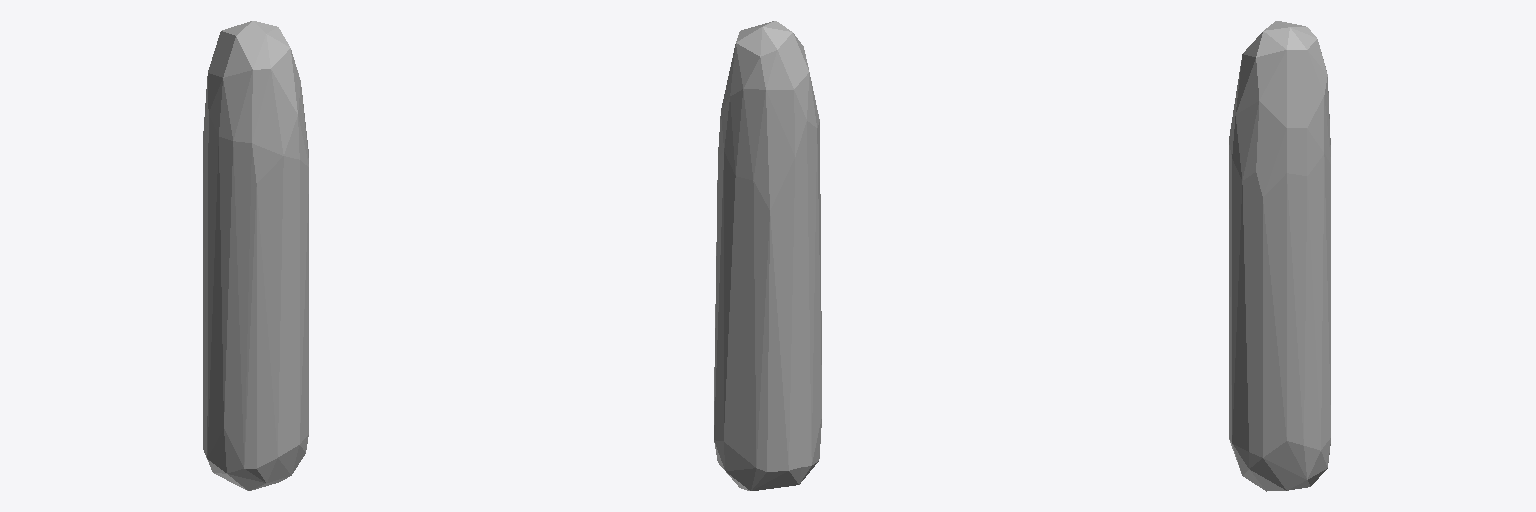
robot.urdf — root:
<robot name="root">
  <link name="link_ycb~040_large_marker_convex_piece_0">
    <inertial>
      <origin xyz="0 0 0" rpy="0 0 0"/>
      <mass value="1.35E-01"/>
      <inertia ixx="1.19E-04" ixy="1.02E-07" ixz="4.07E-07" iyy="1.19E-04" iyz="3.48E-08" izz="8.44E-06"/>
    </inertial>
    <visual>
      <origin xyz="0 0 0" rpy="0 0 0"/>
      <geometry>
        <mesh filename="ycb~040_large_marker_convex_piece_0.obj" scale="1.0000E+00 1.0000E+00 1.0000E+00"/>
      </geometry>
      <material name="">
        <color rgba="7.50E-01 7.50E-01 7.50E-01 1"/>
      </material>
    </visual>
    <collision>
      <origin xyz="0 0 0" rpy="0 0 0"/>
      <geometry>
        <mesh filename="ycb~040_large_marker_convex_piece_0.obj" scale="1.0000E+00 1.0000E+00 1.0000E+00"/>
      </geometry>
    </collision>
  </link>
</robot>

--- Facts derived from the render (not from the file) ---
The picture shows the robot from 3 angles, left to right: view 1: azimuth 30°, elevation 25°; view 2: azimuth 150°, elevation 25°; view 3: azimuth 270°, elevation 25°; orthographic projection.
Model root with 1 links and 0 joints (none), rooted at link_ycb~040_large_marker_convex_piece_0, posed every joint at zero.
Links seen in each view (by area): view 1: link_ycb~040_large_marker_convex_piece_0; view 2: link_ycb~040_large_marker_convex_piece_0; view 3: link_ycb~040_large_marker_convex_piece_0.
Link boxes in pixels (x1,y1,x2,y2): link_ycb~040_large_marker_convex_piece_0: (203, 21, 308, 490); link_ycb~040_large_marker_convex_piece_0: (714, 21, 821, 490); link_ycb~040_large_marker_convex_piece_0: (1229, 21, 1330, 491).
Bounding box of the posed robot: 0.0235 × 0.0227 × 0.1116 m (x, y, z).
Meshes: 1 distinct files referenced, 1 mesh visuals loaded (1 OBJ).